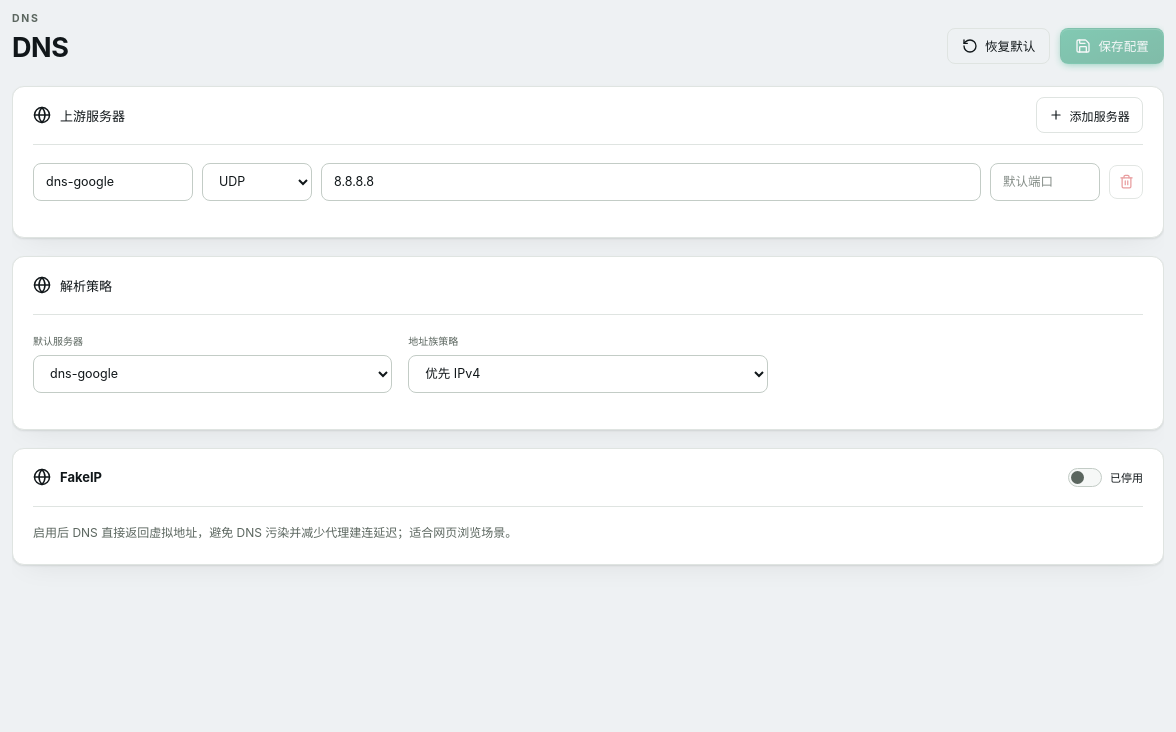
DnsView › blocks saving when a server loses its address
Clear the field named "服务器 1 地址": point(651, 182) [321,162,981,200]
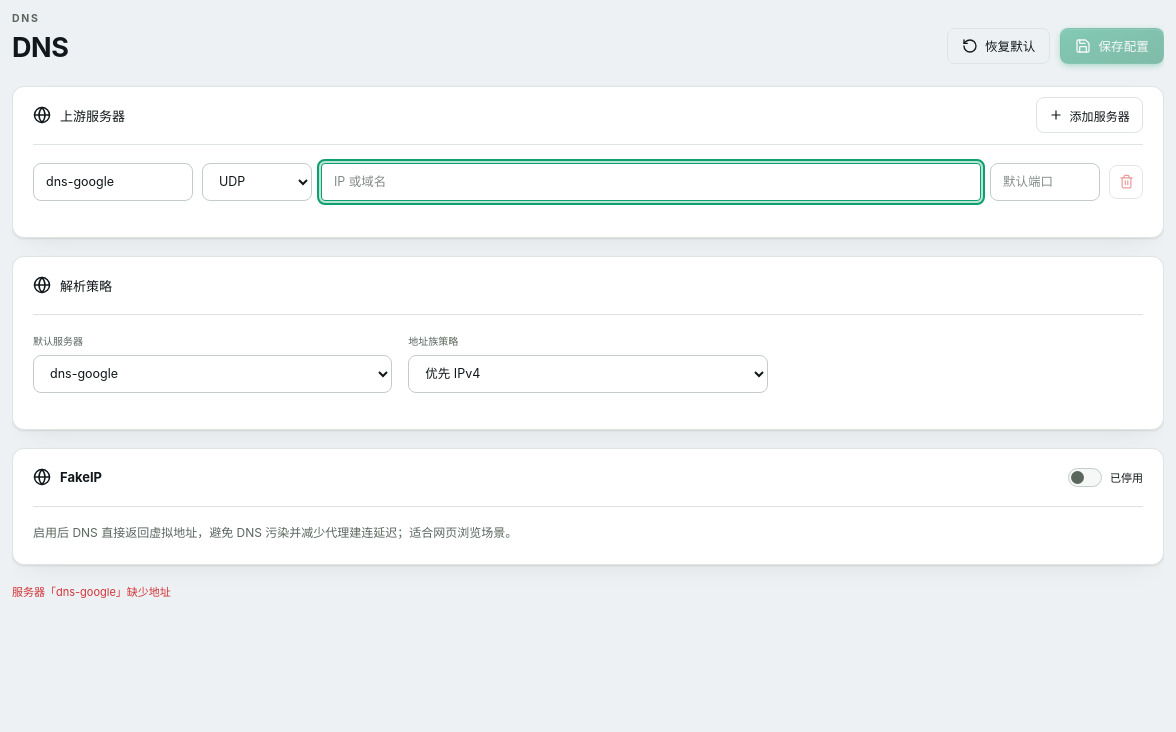
Expected: the button "保存配置" is disabled, [1060,28,1164,64]
Expected: the text "服务器「dns-google」缺少地址" is shown, [12,585,171,599]
